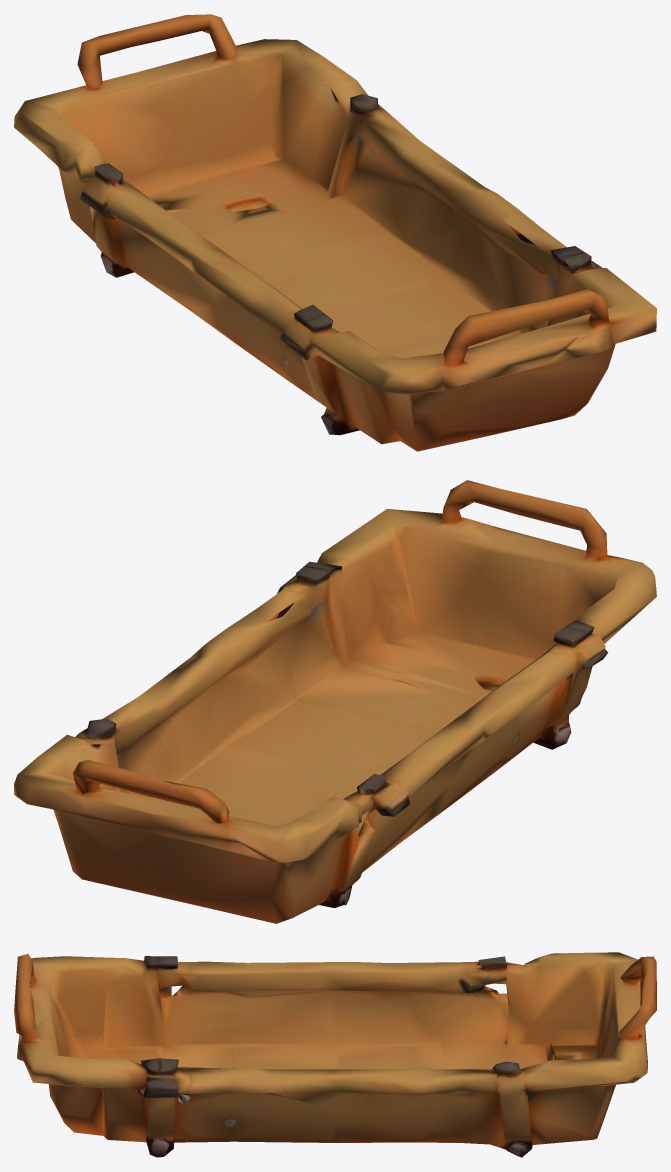
The model's file is basket.glb.
The picture shows the model from 3 angles, top to bottom: view 1: azimuth 30°, elevation 25°; view 2: azimuth 150°, elevation 25°; view 3: azimuth 270°, elevation 25°; orthographic projection. The views are drawn at different scales.
Visible parts, largest first — view 1: tripo_node_07c9b27d-74d3-4e73-8c99-685f3092dac7; view 2: tripo_node_07c9b27d-74d3-4e73-8c99-685f3092dac7; view 3: tripo_node_07c9b27d-74d3-4e73-8c99-685f3092dac7.
Boxes of the visible parts, box(x1,y1,x2,y2) form: tripo_node_07c9b27d-74d3-4e73-8c99-685f3092dac7: box(14, 14, 656, 451); tripo_node_07c9b27d-74d3-4e73-8c99-685f3092dac7: box(14, 480, 656, 923); tripo_node_07c9b27d-74d3-4e73-8c99-685f3092dac7: box(14, 952, 656, 1157).
Size of the model in its own units: 0.5952 by 0.299 by 1.29.
Materials: 1 (1 with a texture image).
